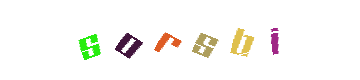0: (88, 0, 168, 80)
5: (140, 0, 220, 80)
B: (177, 0, 257, 80)
I: (221, 0, 301, 80)
R: (126, 0, 206, 80)
S: (49, 0, 129, 80)
